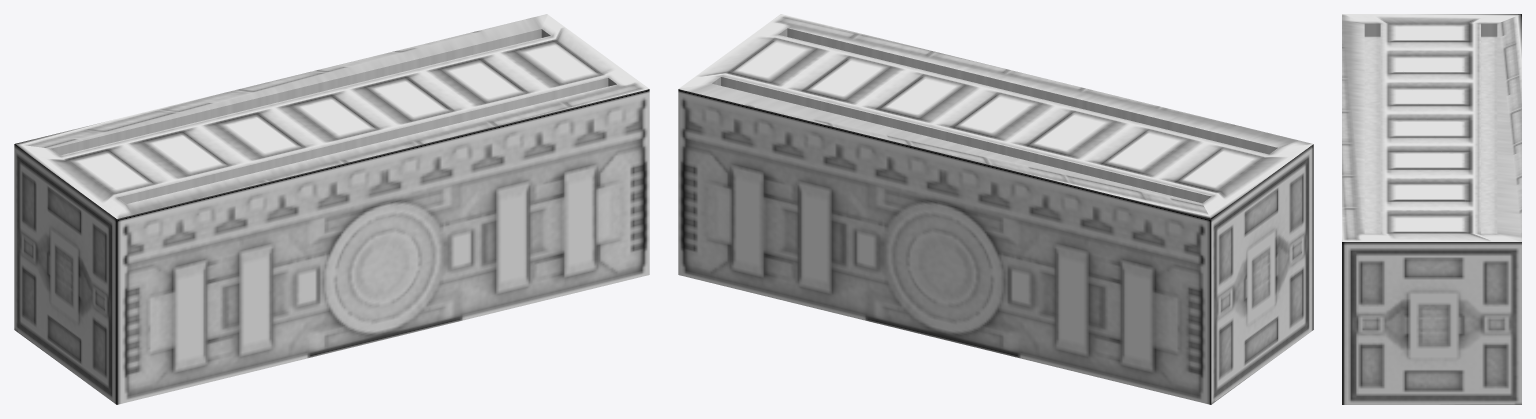
The model's file is Platform2.fbx.
3 views of the same model, side by side, from view 1: azimuth 30°, elevation 25°; view 2: azimuth 150°, elevation 25°; view 3: azimuth 270°, elevation 25° (orthographic). The views are drawn at different scales.
Parts seen in each view (by area): view 1: Platform11; view 2: Platform11; view 3: Platform11.
Part boxes in pixels (left/top/right/bottom): Platform11: left=14, top=14, right=649, bottom=404; Platform11: left=678, top=14, right=1313, bottom=404; Platform11: left=1342, top=14, right=1521, bottom=404.
Size of the model in its own units: 3 by 1 by 1.
